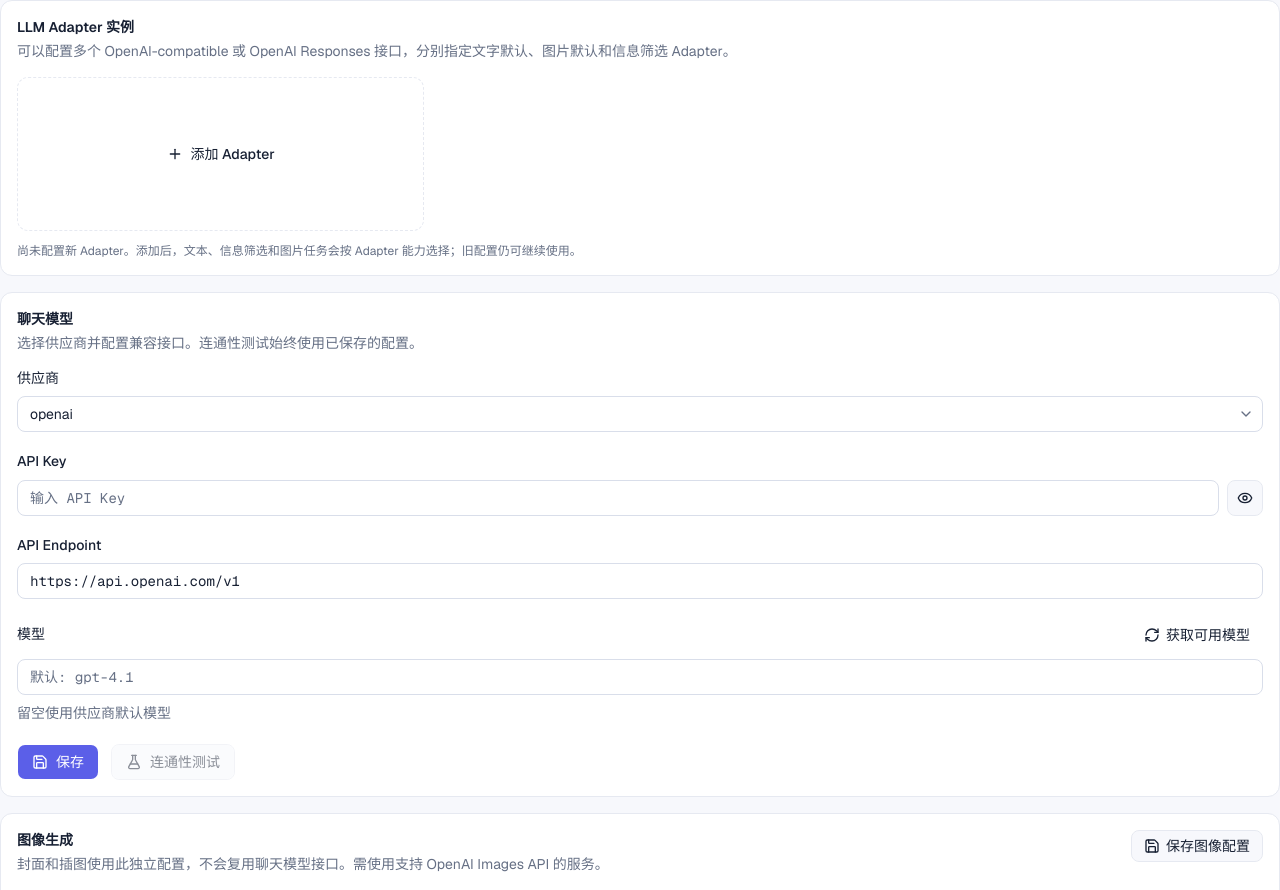
Test: AISection › still selects a model suggestion with the mouse
Click the button "获取可用模型".
click(1197, 635)  # box [1131,619,1263,651]
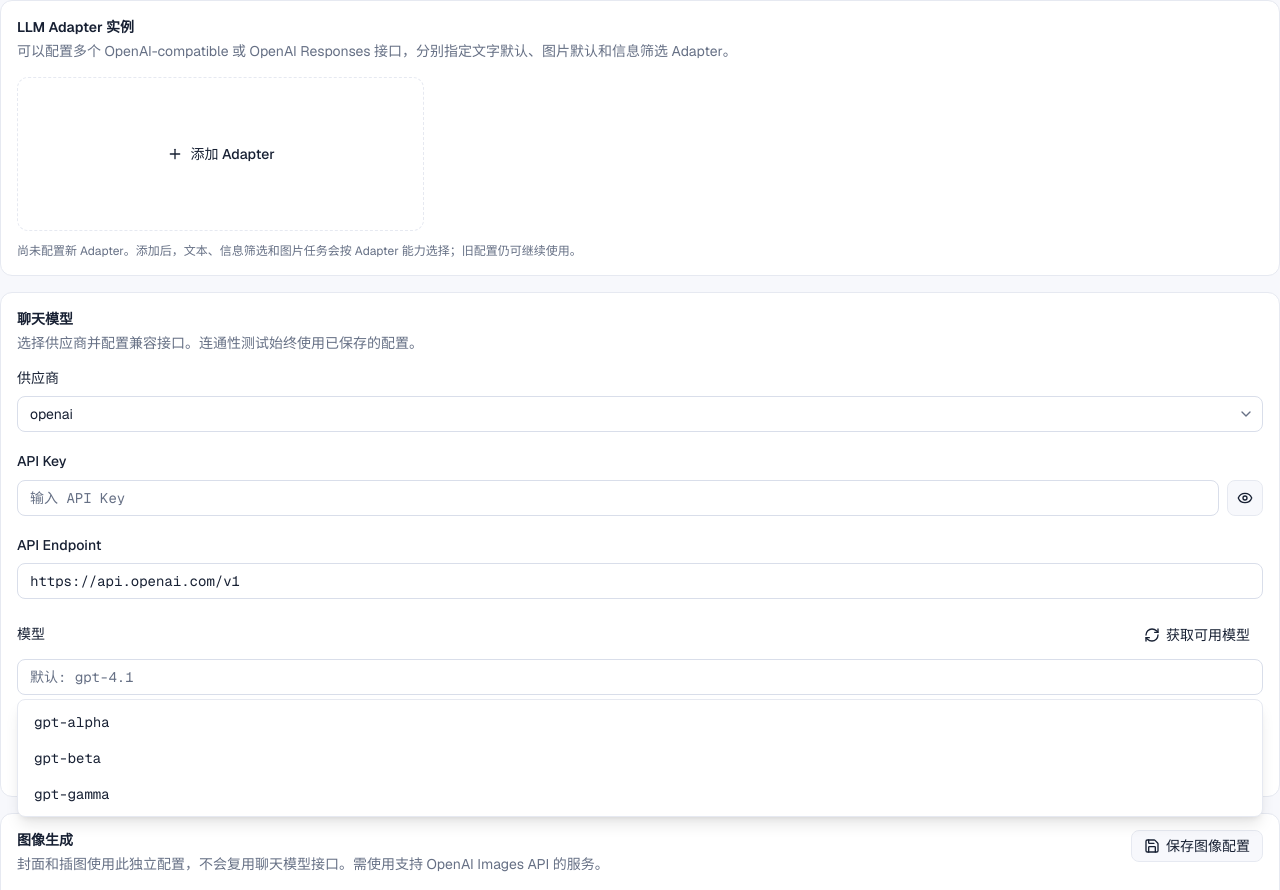
Check: the option "gpt-alpha" is shown, box [22,704,1258,740]
Click the dropdown labelled "模型".
click(640, 677)  # box [17,659,1263,695]
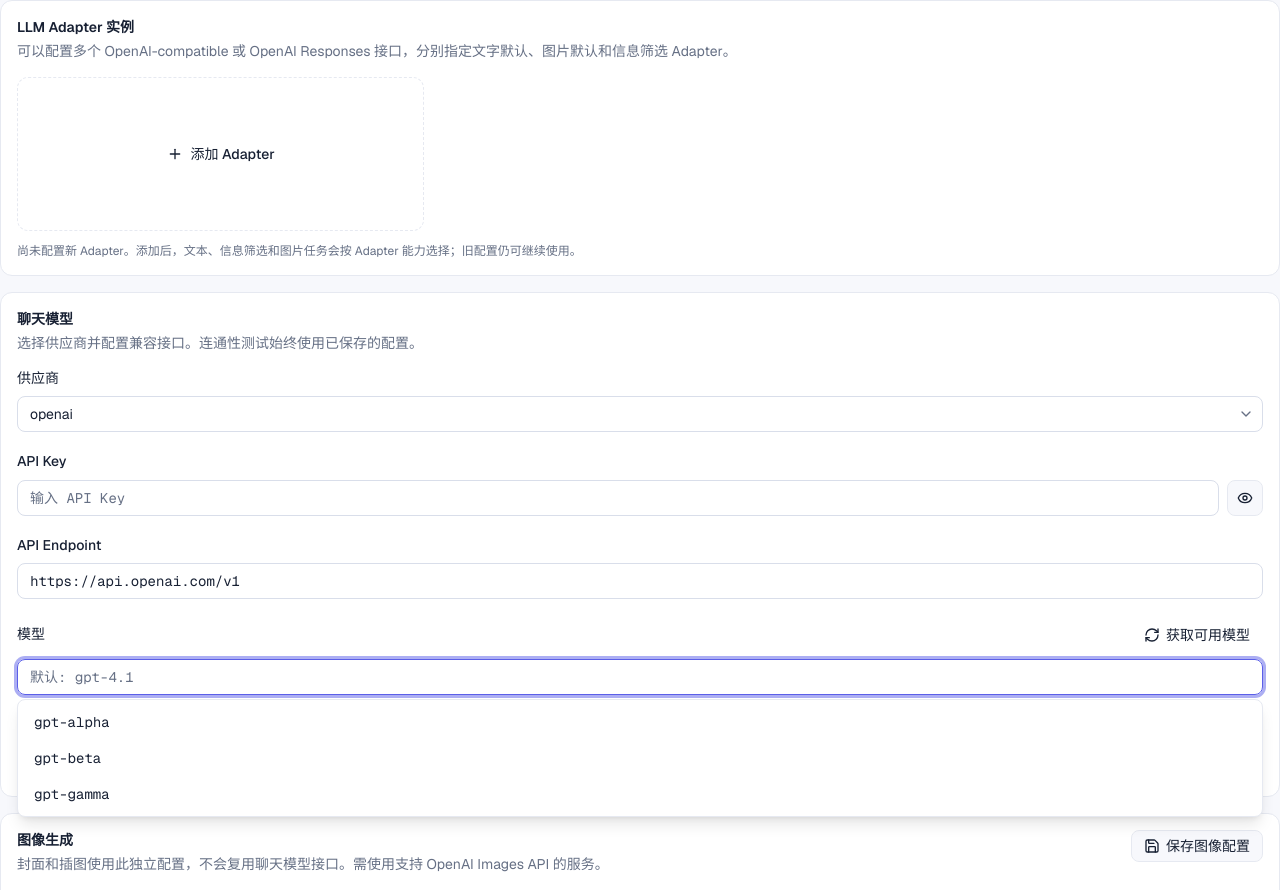
Click the option "gpt-beta".
click(68, 758)  # box [22,740,1258,776]
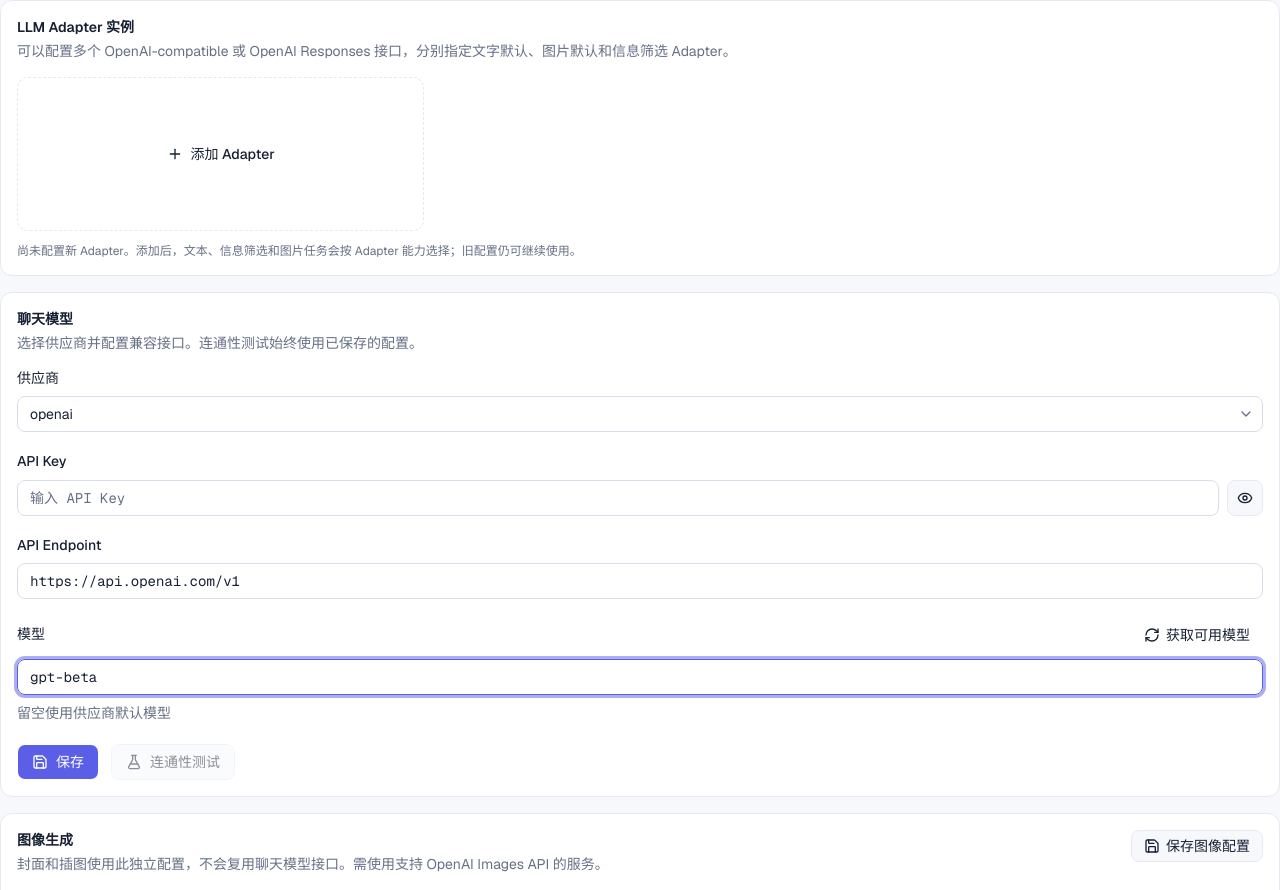
Check: the dropdown labelled "模型" holds "gpt-beta", box [17,659,1263,695]
Check: the option "gpt-alpha" is gone
